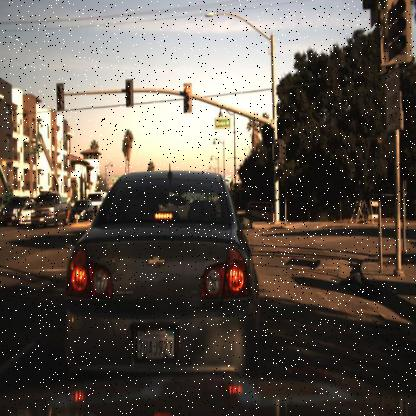car: (62, 168, 262, 389), (29, 190, 69, 228), (82, 188, 110, 220), (64, 198, 93, 225), (17, 200, 38, 234)
trafficLight: (382, 1, 413, 64), (182, 81, 192, 115), (55, 83, 64, 110), (276, 138, 281, 154)
trafficLight-Red: (387, 0, 406, 55), (124, 78, 134, 107), (273, 138, 284, 164)
